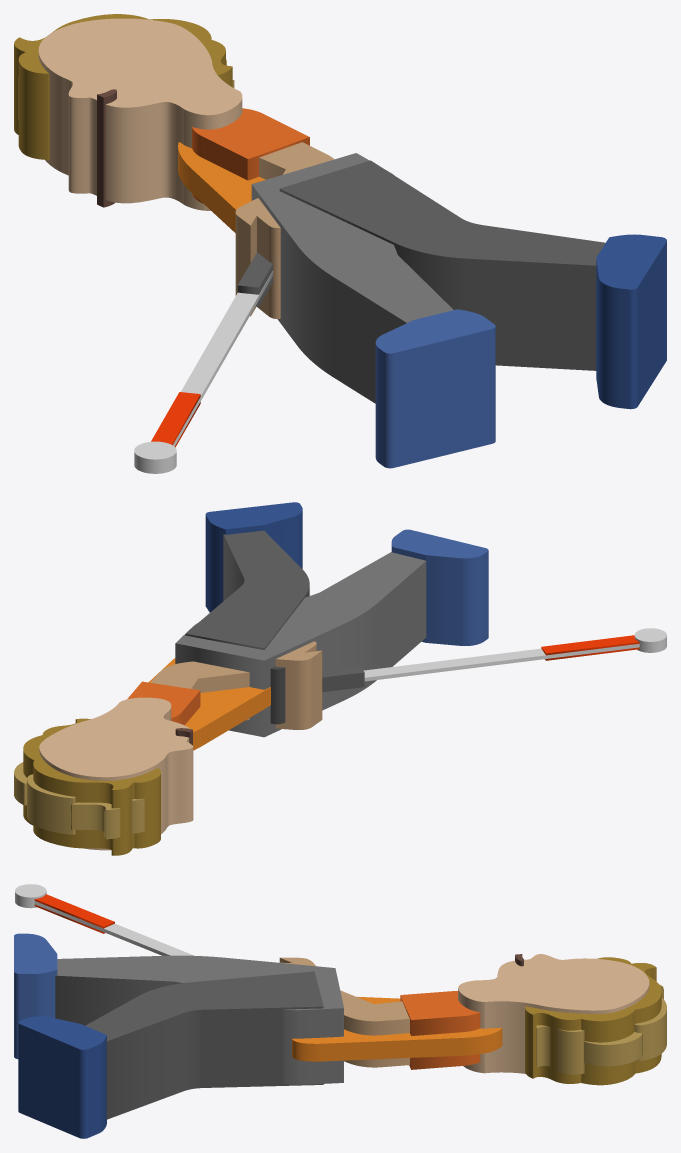
File: emoji_u1f9d1_1f3fc_200d_1f9af.glb
The picture shows the model from 3 angles, top to bottom: view 1: azimuth 30°, elevation 25°; view 2: azimuth 150°, elevation 25°; view 3: azimuth 270°, elevation 25°; orthographic projection. The views are drawn at different scales.
Parts seen in each view (by area): view 1: emoji_u1f9d1_1f3fc_200d_1f9af; view 2: emoji_u1f9d1_1f3fc_200d_1f9af; view 3: emoji_u1f9d1_1f3fc_200d_1f9af.
Part boxes in pixels (x1,y1,x2,y2): emoji_u1f9d1_1f3fc_200d_1f9af: (14,14,666,473); emoji_u1f9d1_1f3fc_200d_1f9af: (14,502,666,855); emoji_u1f9d1_1f3fc_200d_1f9af: (14,884,666,1138).
Bounding box in the file's own units: 0.0247 × 0.005 × 0.0333.
